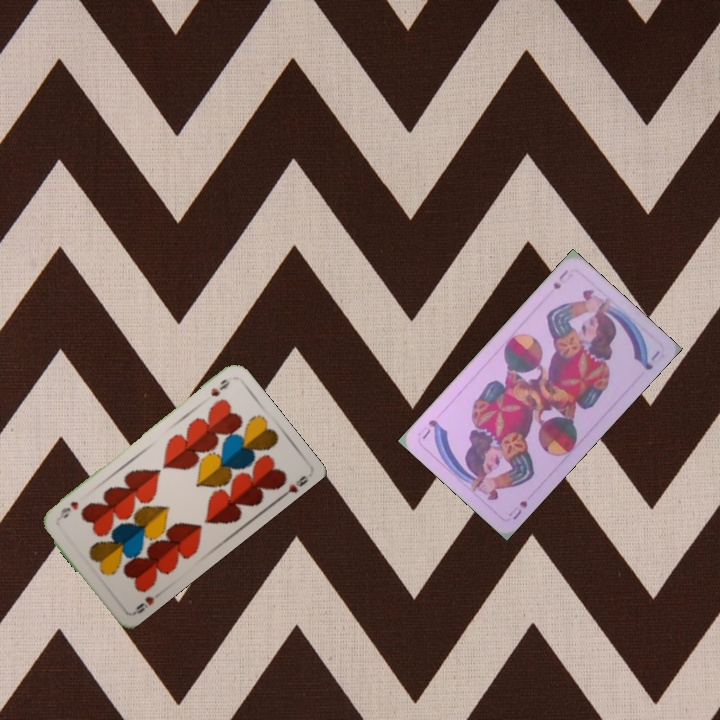H9: (129, 592, 157, 618), (206, 375, 232, 399)
SU: (504, 496, 530, 522), (549, 266, 570, 292)
